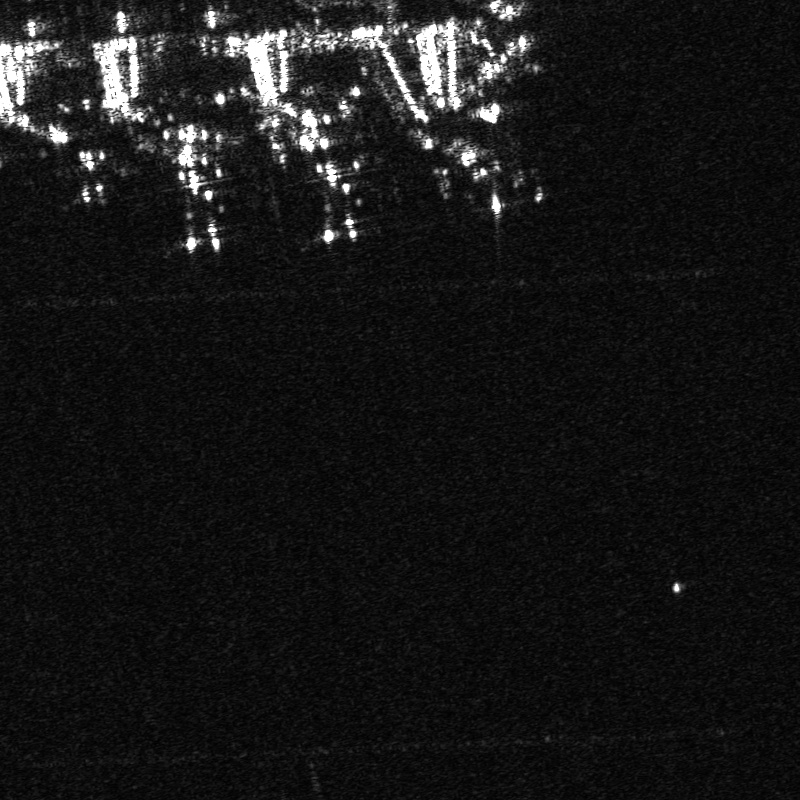A220: (50, 141, 131, 210)
Boeing737: (423, 129, 537, 229)
Boeing787: (138, 137, 248, 260)
other: (289, 126, 389, 245)
